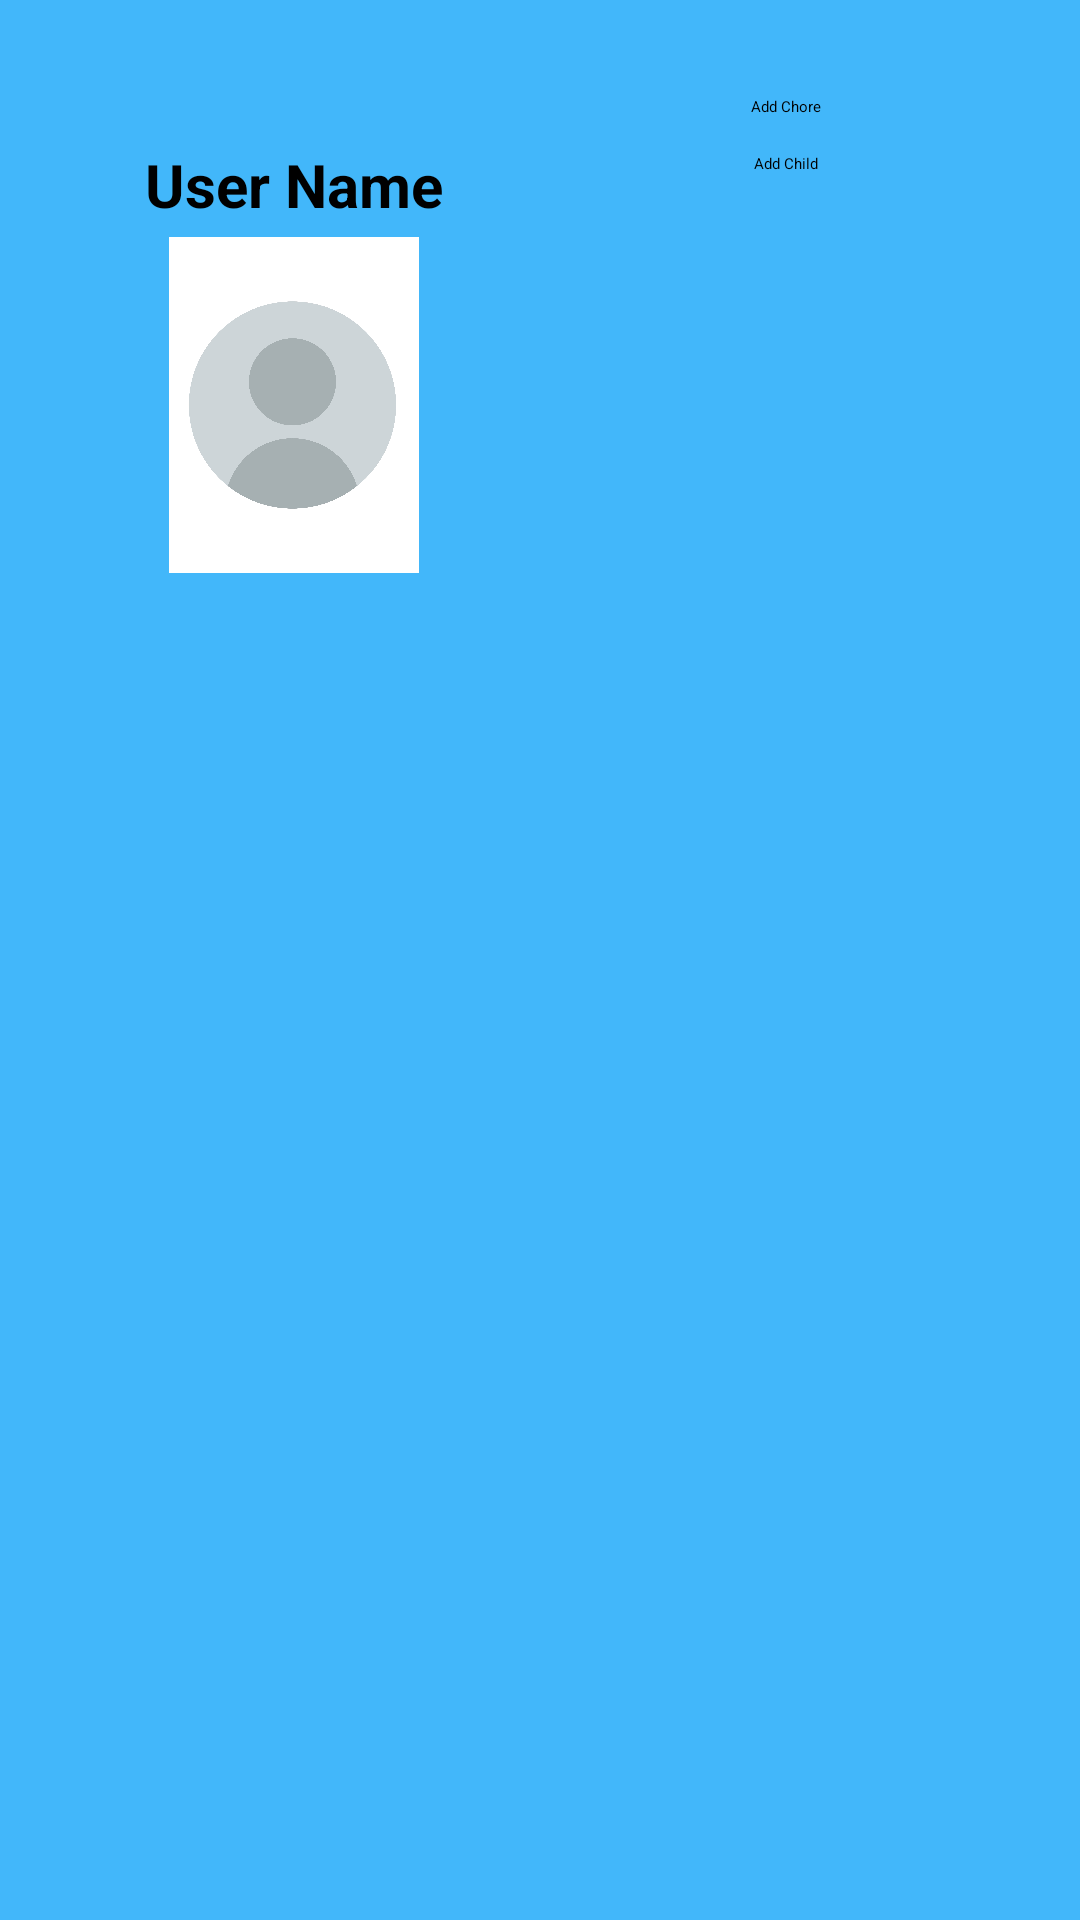

Icon bounding boxes for this 1080x1920 phone screenshot, format BBox(x1, y1, x2, y2):
Profile picture: BBox(169, 237, 419, 573)
